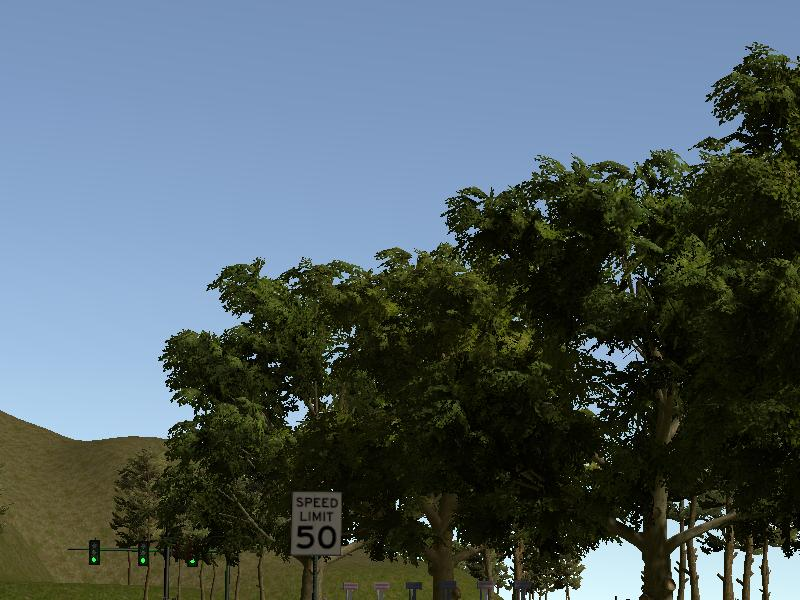Green: (137, 542, 150, 566), (88, 540, 100, 563)
